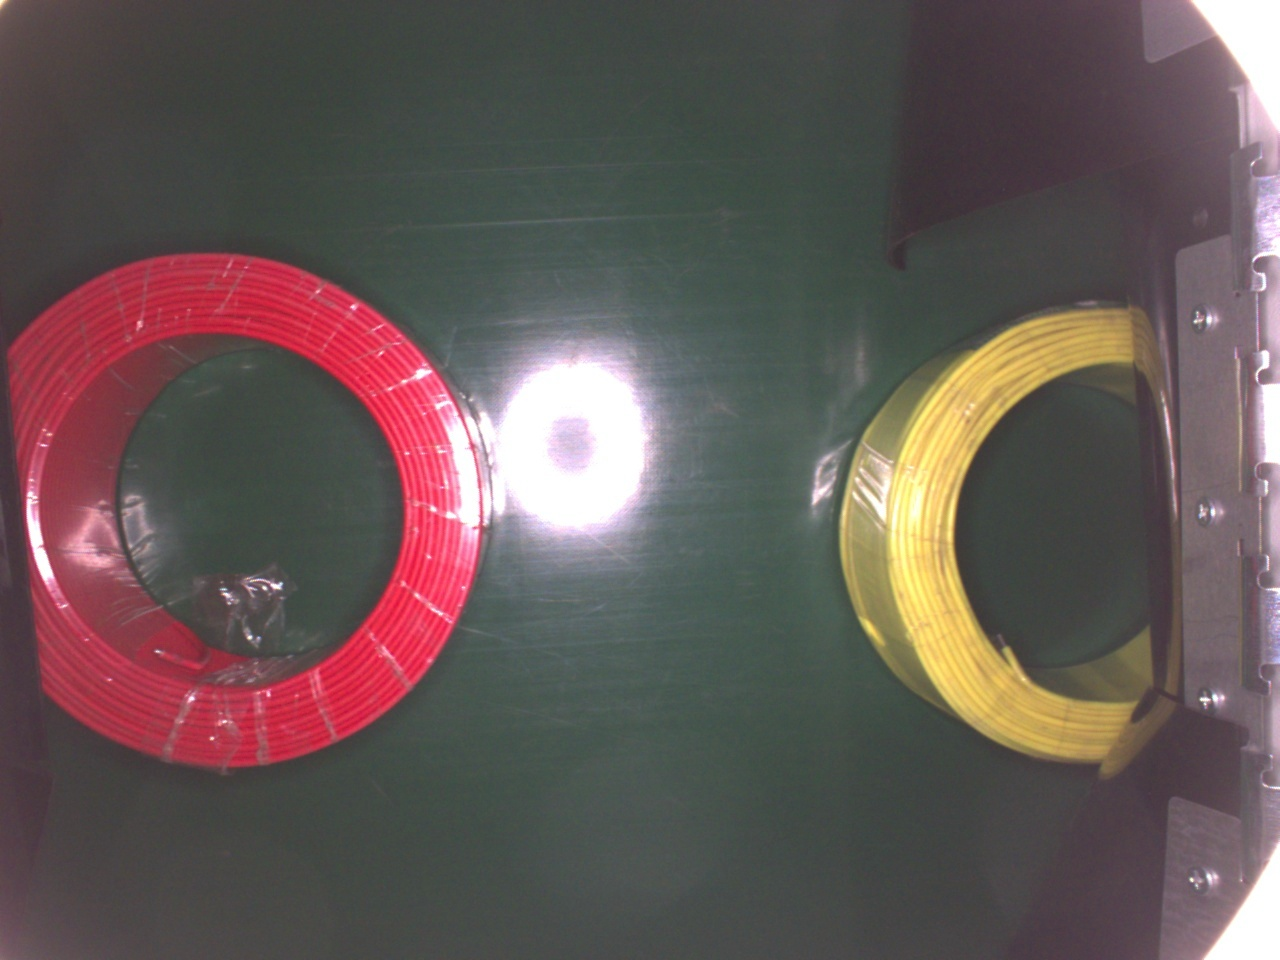red: (5, 249, 487, 768)
yellow: (836, 297, 1136, 763)
